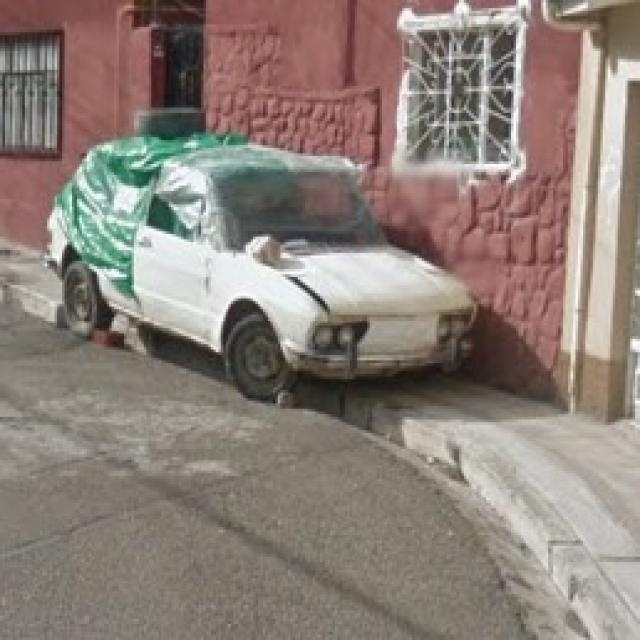Car: (62, 126, 476, 419)
